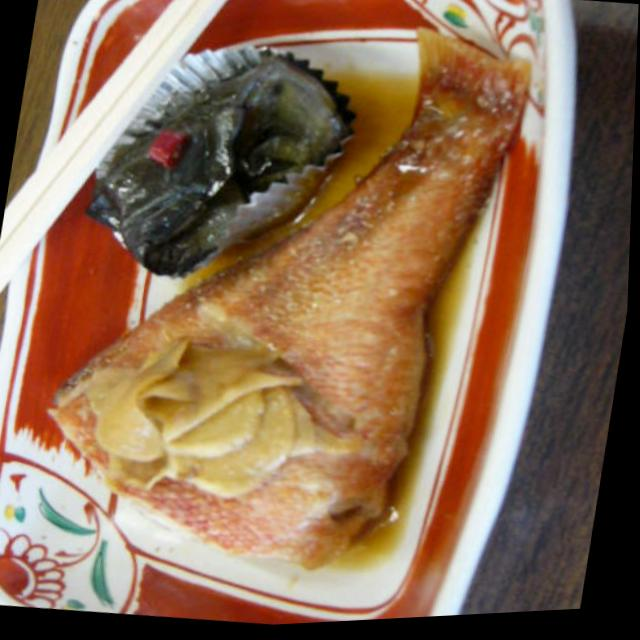熟制海鲜: (0, 0, 602, 632)
